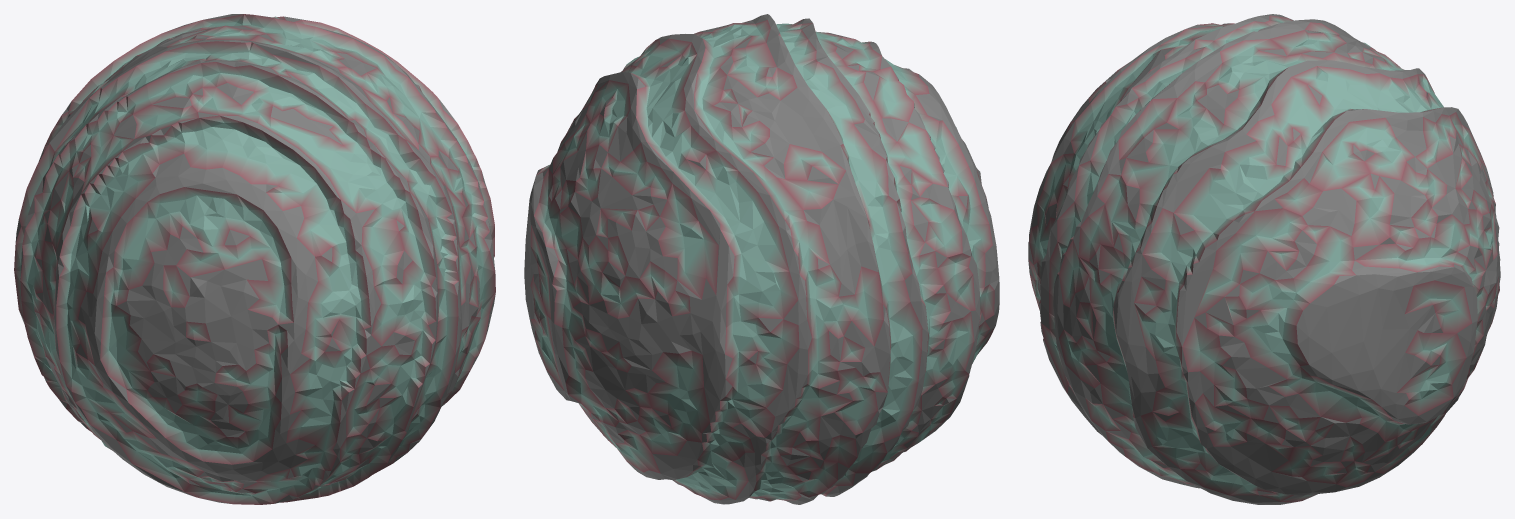
3 renders of one model, left to right at view 1: azimuth 30°, elevation 25°; view 2: azimuth 150°, elevation 25°; view 3: azimuth 270°, elevation 25°, orthographic.
Parts seen in each view (by area): view 1: 8, 7; view 2: 8, 7; view 3: 8, 7.
Boxes of the visible parts, <box> form: 8: <box>14,14,495,504</box>; 7: <box>15,14,495,503</box>; 8: <box>530,19,994,501</box>; 7: <box>524,14,999,504</box>; 8: <box>1028,15,1499,502</box>; 7: <box>1028,14,1500,504</box>.
Bounding box in the file's own units: 4890 × 5055 × 4841.
